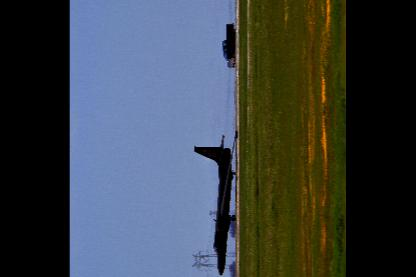Tu160: (194, 128, 238, 272)
